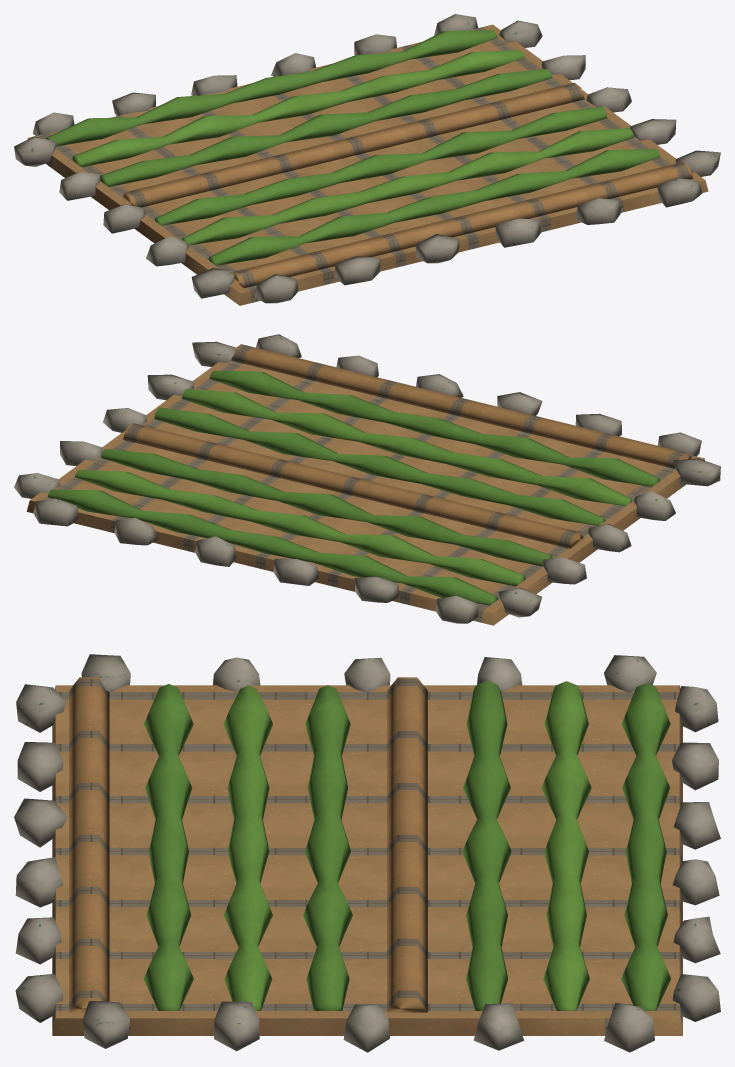
Rendered from field.crops.glb.
The picture shows the model from 3 angles, top to bottom: view 1: azimuth 30°, elevation 25°; view 2: azimuth 150°, elevation 25°; view 3: azimuth 270°, elevation 25°; orthographic projection. The views are drawn at different scales.
Parts seen in each view (by area): view 1: scenery.field.crops; view 2: scenery.field.crops; view 3: scenery.field.crops.
Boxes of the visible parts, x1=… form: scenery.field.crops: x1=14, y1=14, x2=720, y2=305; scenery.field.crops: x1=14, y1=334, x2=720, y2=625; scenery.field.crops: x1=14, y1=654, x2=720, y2=1052.
Bounding box in the file's own units: 10.88 × 0.5911 × 8.63.
Materials: 3 (3 with a texture image).
